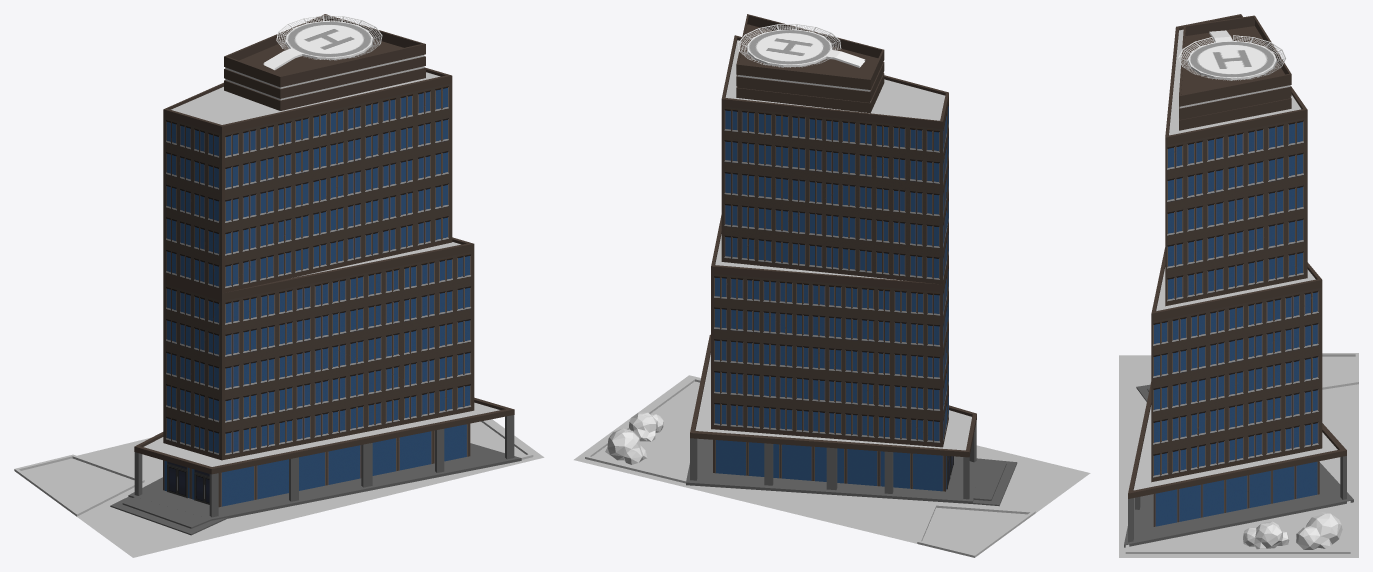
Rendered from Office_Block_Huge.fbx.
3 views of the same model, side by side, from view 1: azimuth 30°, elevation 25°; view 2: azimuth 150°, elevation 25°; view 3: azimuth 270°, elevation 25° (orthographic). The views are drawn at different scales.
Visible parts, largest first — view 1: Office_Block_Huge, Office_Block_BG_Huge, HelicopterPlace, HelicopterPlace_Alpha_DoubleSided, Door_02; view 2: Office_Block_Huge, Office_Block_BG_Huge, HelicopterPlace, Bush_T_Colors, HelicopterPlace_Alpha_DoubleSided; view 3: Office_Block_Huge, Office_Block_BG_Huge, HelicopterPlace, Bush_T_Colors, HelicopterPlace_Alpha_DoubleSided.
Part boxes in pixels (<box>): Office_Block_Huge: <box>110,14,521,535</box>; Office_Block_BG_Huge: <box>14,419,544,557</box>; HelicopterPlace: <box>263,21,372,70</box>; HelicopterPlace_Alpha_DoubleSided: <box>276,15,382,60</box>; Door_02: <box>167,461,187,498</box>; Office_Block_Huge: <box>686,14,1017,506</box>; Office_Block_BG_Huge: <box>574,375,1090,557</box>; HelicopterPlace: <box>747,29,865,67</box>; Bush_T_Colors: <box>605,412,663,464</box>; HelicopterPlace_Alpha_DoubleSided: <box>738,24,841,67</box>; Office_Block_Huge: <box>1124,14,1353,547</box>; Office_Block_BG_Huge: <box>1119,353,1358,557</box>; HelicopterPlace: <box>1188,30,1276,80</box>; Bush_T_Colors: <box>1243,512,1342,549</box>; HelicopterPlace_Alpha_DoubleSided: <box>1178,35,1286,80</box>.
Bounding box in the file's own units: 4000 × 3877 × 2000.
